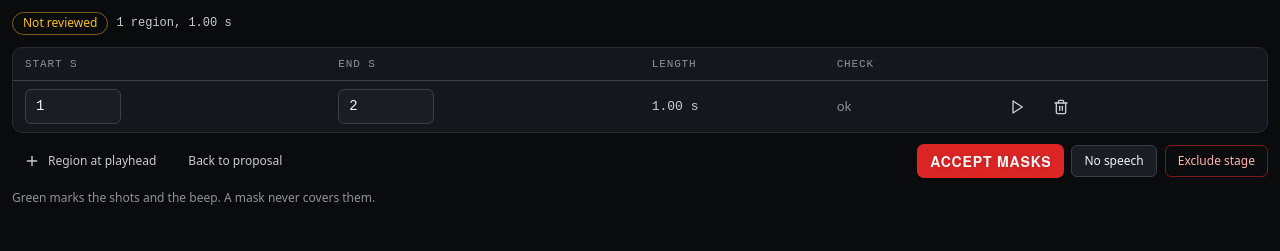
Test: SpeechPanel › shows the server's refusal
Click the button "Accept masks".
click(991, 161)  # box [918, 145, 1063, 177]
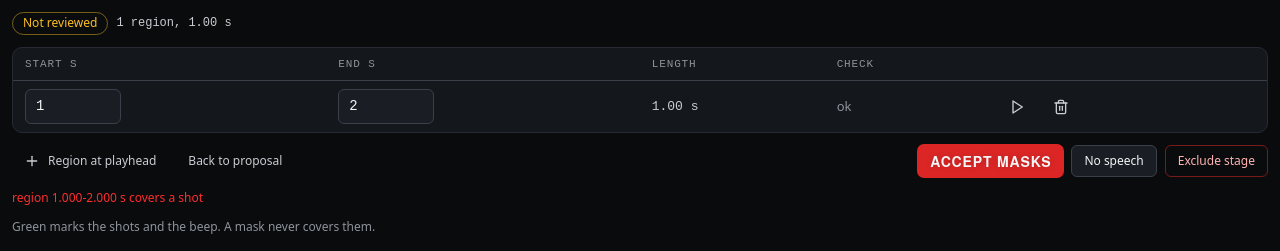
Now the text "region 1.000-2.000 s covers a shot" is shown, box [12, 189, 203, 206]
